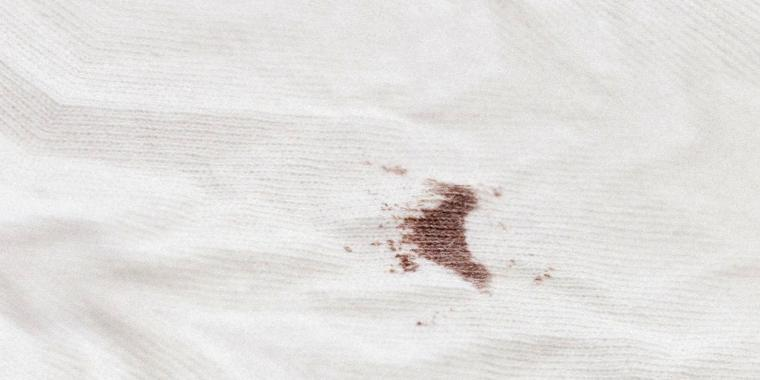stain: (392, 172, 506, 293)
